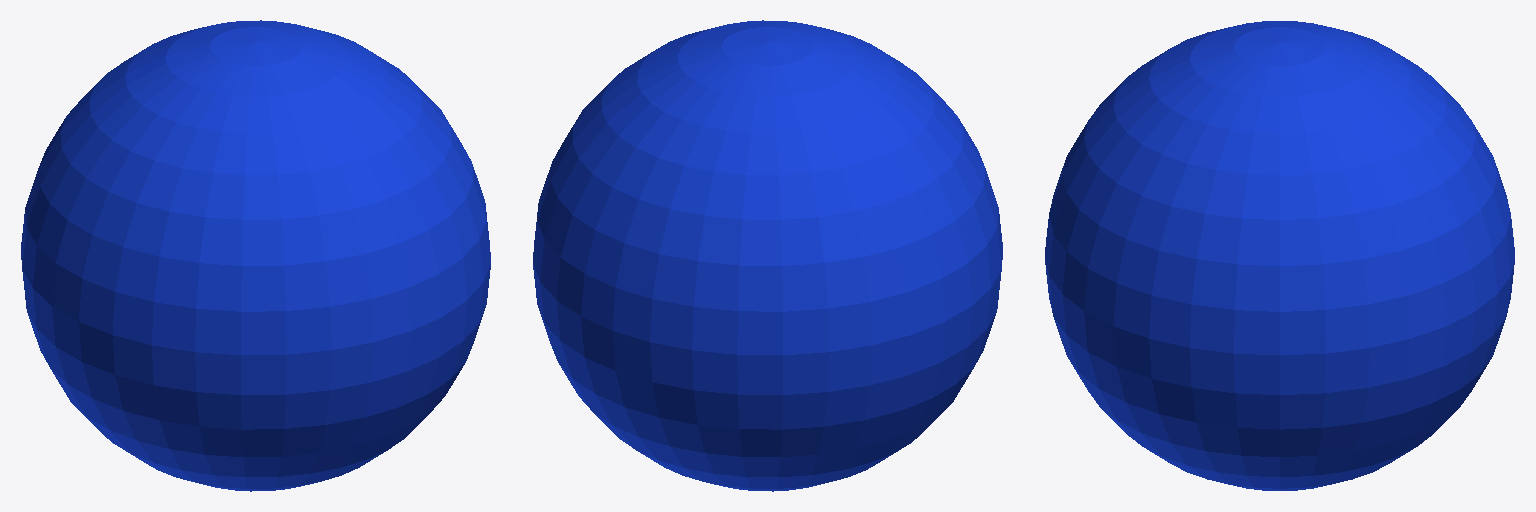
robot.urdf — blue_sphere:
<?xml version="1.0"?>
<robot name="blue_sphere">
  <link name="base_link">
    <contact>
      <lateral_friction value="0.9"/>
      <rolling_friction value="0.08"/>
      <spinning_friction value="0.06"/>
      <restitution value="0.0"/>
    </contact>
    <inertial>
      <origin rpy="0 0 0" xyz="0 0 0"/>
      <mass value="0.5"/>
      <inertia ixx="0.001" ixy="0" ixz="0" iyy="0.001" iyz="0" izz="0.001"/>
    </inertial>
    <visual>
      <origin rpy="0 0 0" xyz="0 0 0"/>
      <geometry>
        <sphere radius="0.06"/>
      </geometry>
      <material name="blue">
        <color rgba="0.150 0.320 0.880 1.000"/>
      </material>
    </visual>
    <collision>
      <origin rpy="0 0 0" xyz="0 0 0"/>
      <geometry>
        <sphere radius="0.06"/>
      </geometry>
    </collision>
  </link>
</robot>

--- What the picture shows (computed from the rendered views, not written in the file) ---
Views: 3 orthographic renders of the robot side by side, from view 1: azimuth 30°, elevation 25°; view 2: azimuth 150°, elevation 25°; view 3: azimuth 270°, elevation 25°.
Robot: blue_sphere — 1 links, 0 joints (none); root link base_link; default pose: all joints at 0.
Links seen in each view (by area): view 1: base_link; view 2: base_link; view 3: base_link.
Boxes of the visible links, <box> form: base_link: <box>21,20,490,491</box>; base_link: <box>533,20,1002,491</box>; base_link: <box>1045,21,1514,490</box>.
Bounding box of the posed robot: 0.12 × 0.12 × 0.12 m (x, y, z).
Geometry: primitives only (box / cylinder / sphere), no mesh files.
